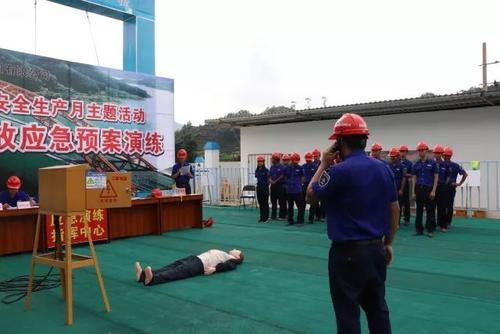10+: (1, 113, 495, 328)
down: (133, 246, 247, 288)
